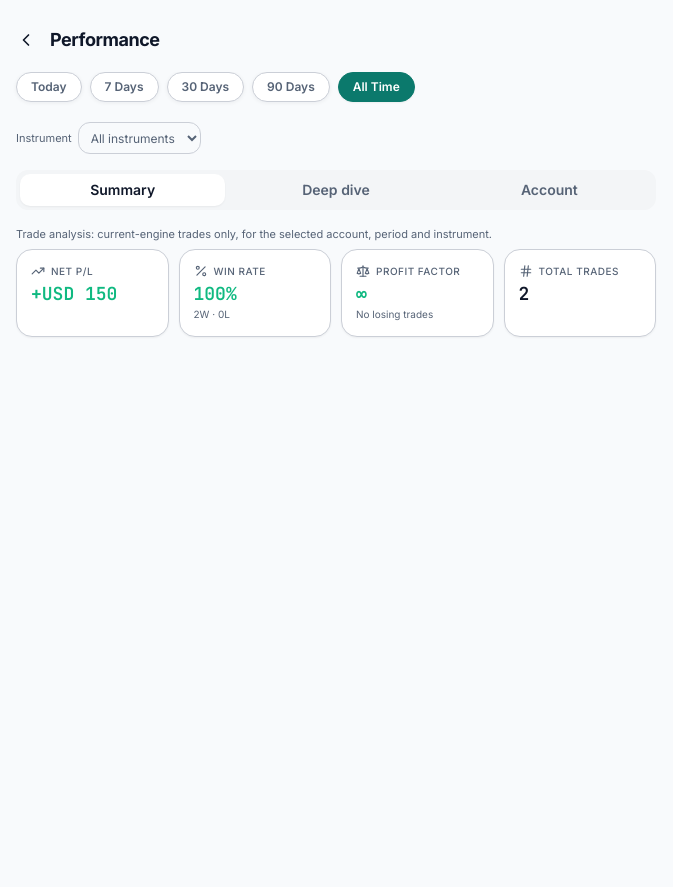
Test case: JournalStats — Phase 7 breakdowns & safety › flags cross-asset pip totals as informational and offers an instrument filter
Expected: the text "Instrument" is shown, top-left (16, 122), bottom-right (201, 154)
Click the button "Deep dive": (336, 190) top-left (233, 174), bottom-right (439, 206)
(page scrolled)
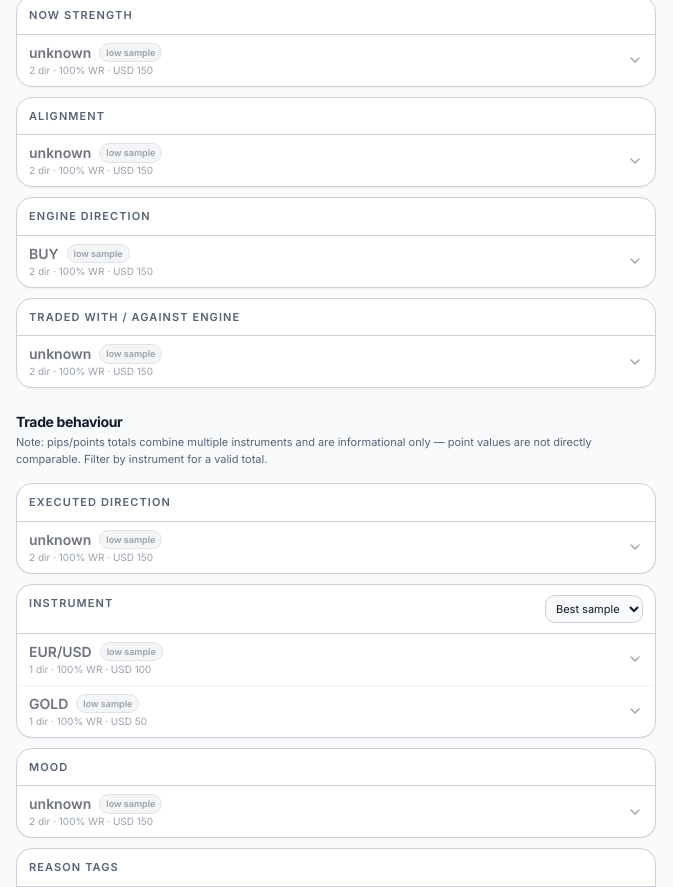
Result: the text "informational only" is shown at top-left (16, 435), bottom-right (592, 466)
